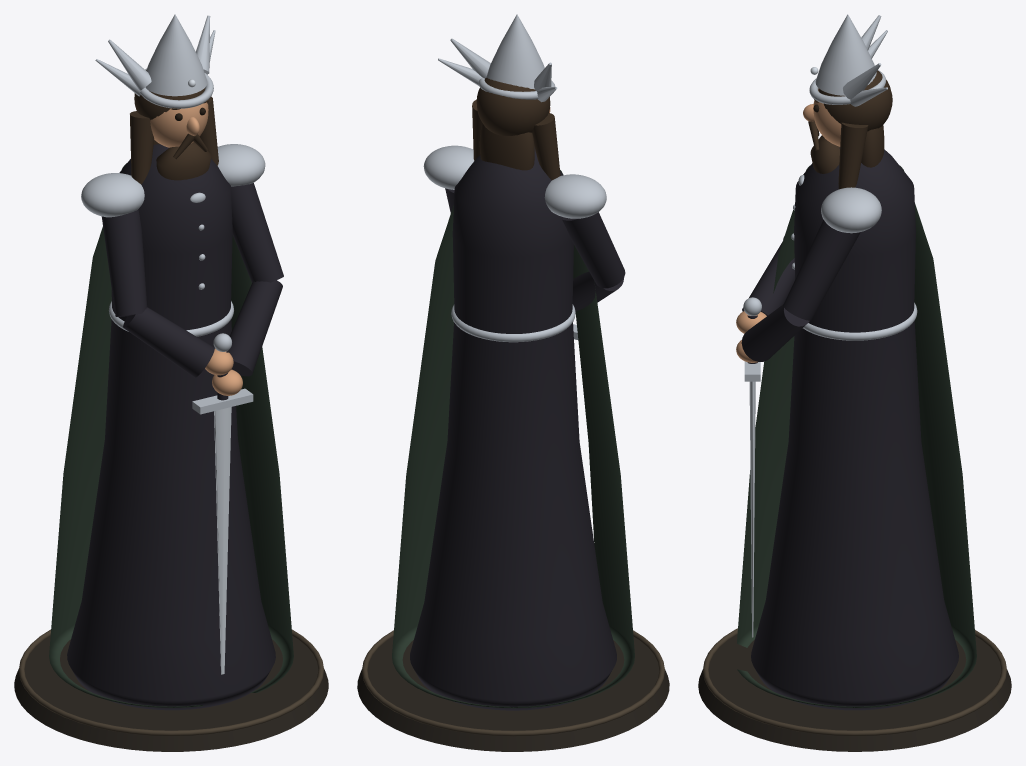
Rendered from strider.glb.
The picture shows the model from 3 angles, left to right: view 1: azimuth 30°, elevation 25°; view 2: azimuth 150°, elevation 25°; view 3: azimuth 270°, elevation 25°; orthographic projection.
Visible parts, largest first — view 1: robe, cloak, base, arm_upper_l, arm_upper_r, crown_peak, blade, sleeve_l, sleeve_r, base_ring, pauldron_l, pauldron_r (+12 smaller); view 2: robe, cloak, base, hair_cap, base_ring, arm_upper_l, crown_peak, pauldron_l, hair_back, pauldron_r, hair_l, girdle (+2 smaller); view 3: robe, cloak, base, arm_upper_r, base_ring, crown_peak, pauldron_r, sleeve_r, hair_cap, hair_r, sleeve_l, blade (+6 smaller).
Boxes of the visible parts, x1,y1,x2,y2 form: robe: [67, 144, 275, 710]; cloak: [49, 163, 293, 707]; base: [14, 636, 328, 751]; arm_upper_l: [101, 209, 147, 316]; arm_upper_r: [231, 183, 283, 282]; crown_peak: [145, 14, 207, 96]; blade: [214, 407, 231, 674]; sleeve_l: [123, 307, 214, 377]; sleeve_r: [228, 280, 282, 376]; base_ring: [19, 629, 323, 736]; pauldron_l: [81, 173, 144, 217]; pauldron_r: [217, 144, 265, 186]; robe: [410, 147, 616, 710]; cloak: [392, 170, 634, 708]; base: [357, 637, 669, 751]; hair_cap: [476, 78, 550, 135]; base_ring: [362, 630, 664, 736]; arm_upper_l: [562, 212, 625, 288]; crown_peak: [486, 14, 544, 89]; pauldron_l: [544, 174, 606, 218]; hair_back: [479, 123, 534, 170]; pauldron_r: [423, 145, 474, 189]; hair_l: [532, 113, 560, 180]; girdle: [451, 304, 575, 342]; robe: [751, 147, 958, 710]; cloak: [737, 165, 976, 707]; base: [698, 634, 1011, 751]; arm_upper_r: [783, 220, 860, 320]; base_ring: [703, 628, 1006, 735]; crown_peak: [815, 14, 876, 95]; pauldron_r: [821, 187, 881, 233]; sleeve_r: [741, 304, 809, 361]; hair_cap: [819, 70, 892, 131]; hair_r: [838, 122, 868, 189]; sleeve_l: [742, 242, 794, 315]; blade: [749, 381, 755, 637].
Bounding box in the file's own units: 0.8736 × 2.06 × 0.8736.
